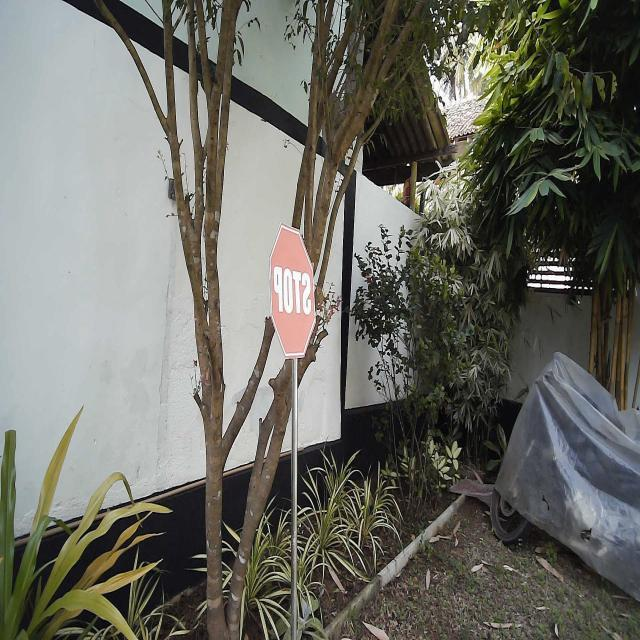stop: (266, 220, 318, 364)
